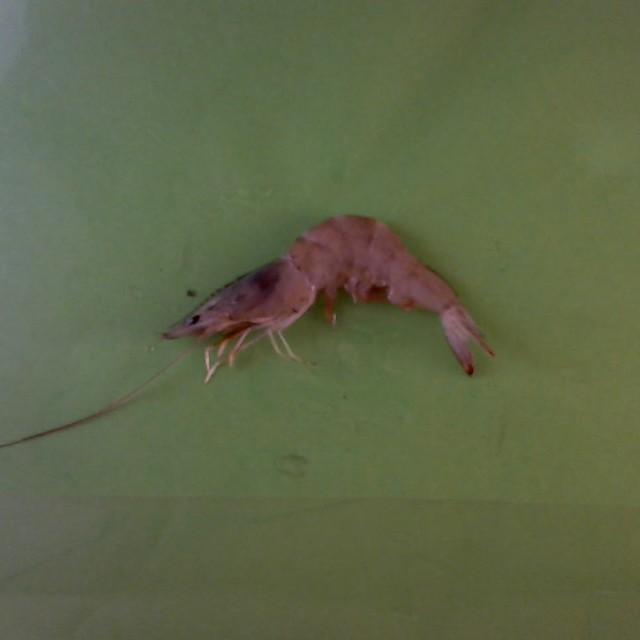shrimp: (163, 216, 494, 375)
